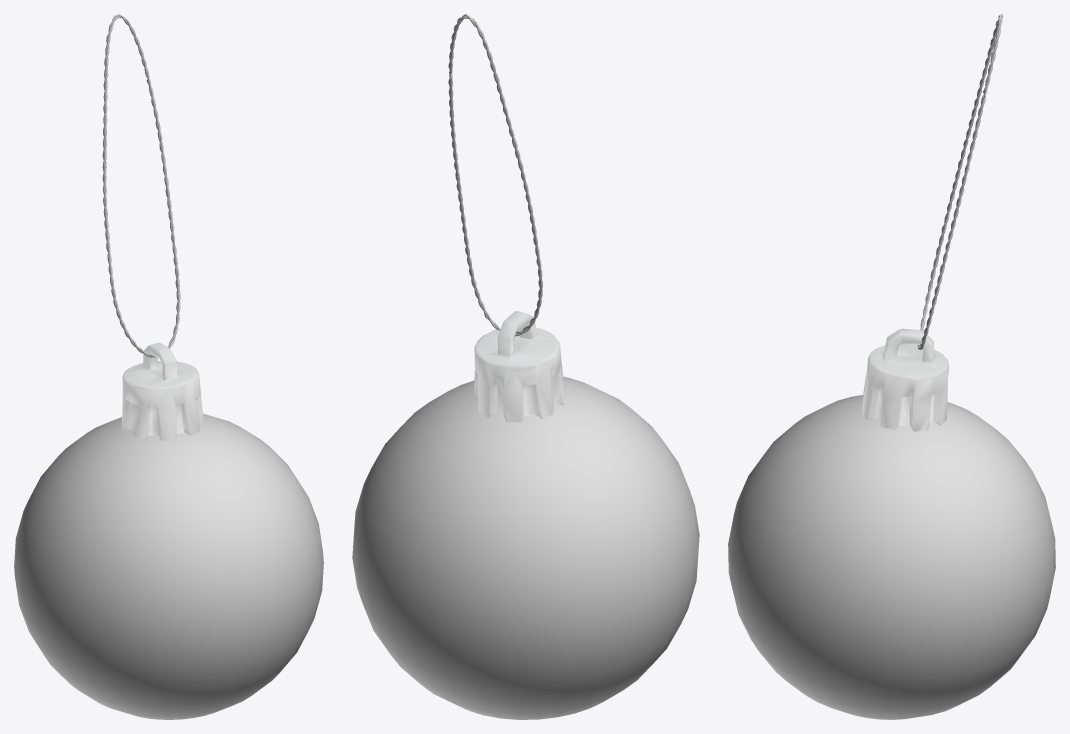
The model's file is Glittering_White_Orb_s.glb.
The picture shows the model from 3 angles, left to right: view 1: azimuth 30°, elevation 25°; view 2: azimuth 150°, elevation 25°; view 3: azimuth 270°, elevation 25°; orthographic projection. The views are drawn at different scales.
Visible parts, largest first — view 1: Sphere, GN Instance; view 2: Sphere, GN Instance; view 3: Sphere, GN Instance.
Boxes of the visible parts, bbox=[...] form: Sphere: bbox=[14, 342, 323, 719]; GN Instance: bbox=[102, 14, 180, 357]; Sphere: bbox=[352, 311, 699, 719]; GN Instance: bbox=[448, 14, 542, 336]; Sphere: bbox=[728, 328, 1055, 719]; GN Instance: bbox=[917, 14, 1002, 350].
Size of the model in its own units: 0.0439 by 0.1016 by 0.0437.
Materials: 3 (1 with a texture image).
